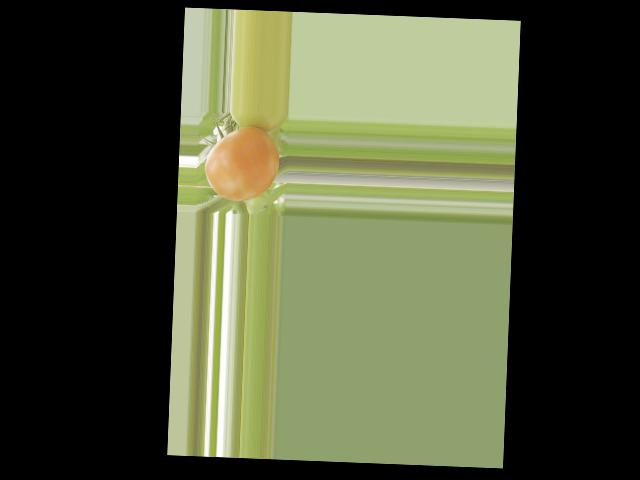tomato: (203, 124, 280, 202)
